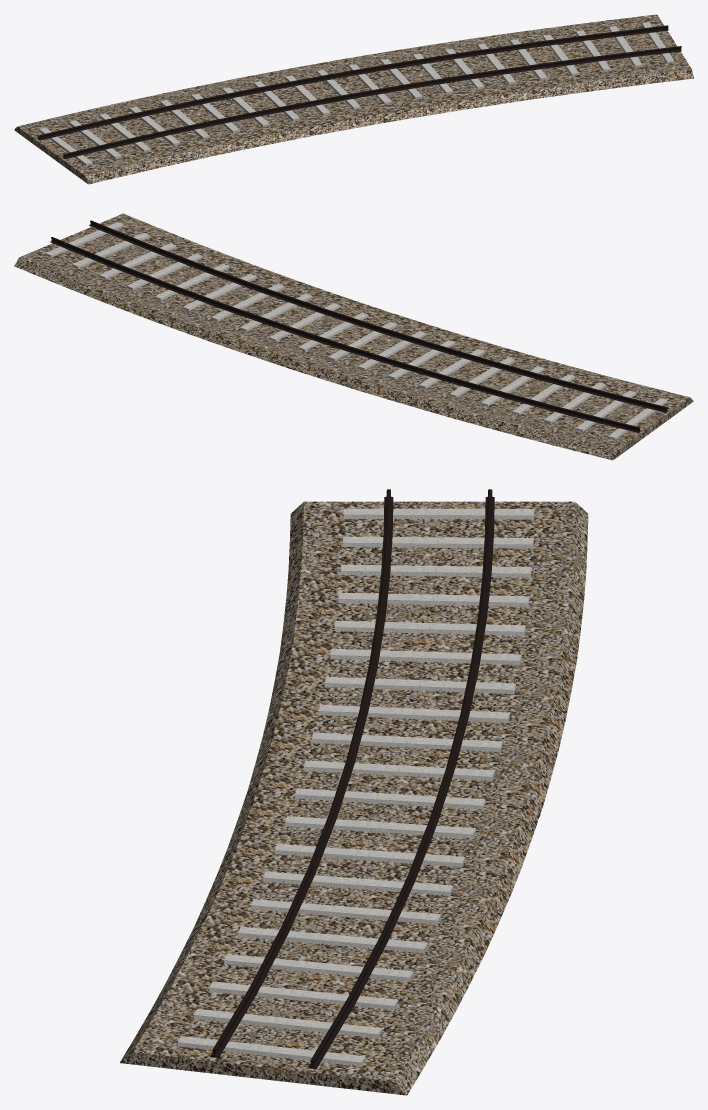
The model's file is voiesFerreesCourbe20m.obj.
The picture shows the model from 3 angles, top to bottom: view 1: azimuth 30°, elevation 25°; view 2: azimuth 150°, elevation 25°; view 3: azimuth 270°, elevation 25°; orthographic projection. The views are drawn at different scales.
Visible parts, largest first — view 1: ballas20m15degres_Plane.009, curve20m15degres_Point.005, traverse20m15degres_Cube.007; view 2: ballas20m15degres_Plane.009, traverse20m15degres_Cube.007, curve20m15degres_Point.005; view 3: ballas20m15degres_Plane.009, traverse20m15degres_Cube.007, curve20m15degres_Point.005.
Boxes of the visible parts, x1,y1,x2,y2 form: ballas20m15degres_Plane.009: (14,14,693,184); curve20m15degres_Point.005: (37,25,681,159); traverse20m15degres_Cube.007: (39,22,674,165); ballas20m15degres_Plane.009: (14,213,693,460); traverse20m15degres_Cube.007: (45,222,667,439); curve20m15degres_Point.005: (50,220,667,432); ballas20m15degres_Plane.009: (120,501,588,1095); traverse20m15degres_Cube.007: (177,508,534,1066); curve20m15degres_Point.005: (210,489,494,1068).
Bounding box in the file's own units: 2034 × 39.86 × 693.
